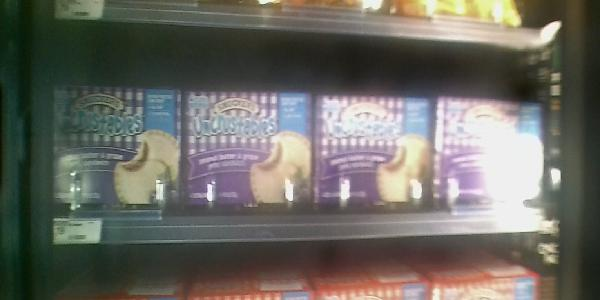icecream: (49, 80, 183, 214), (186, 84, 312, 215), (314, 90, 432, 210), (434, 93, 548, 210)
